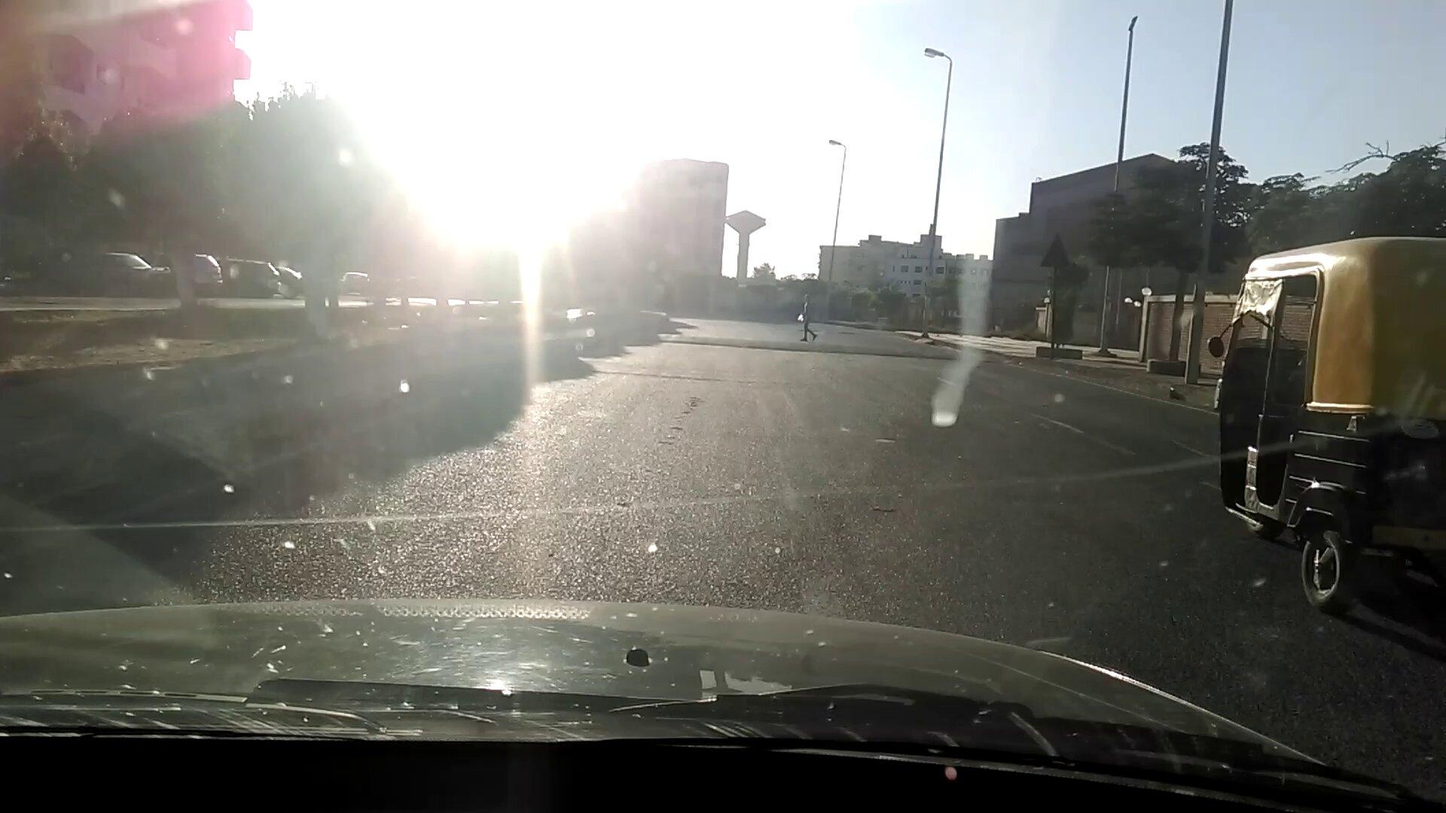Bump: (639, 322, 1005, 367)
